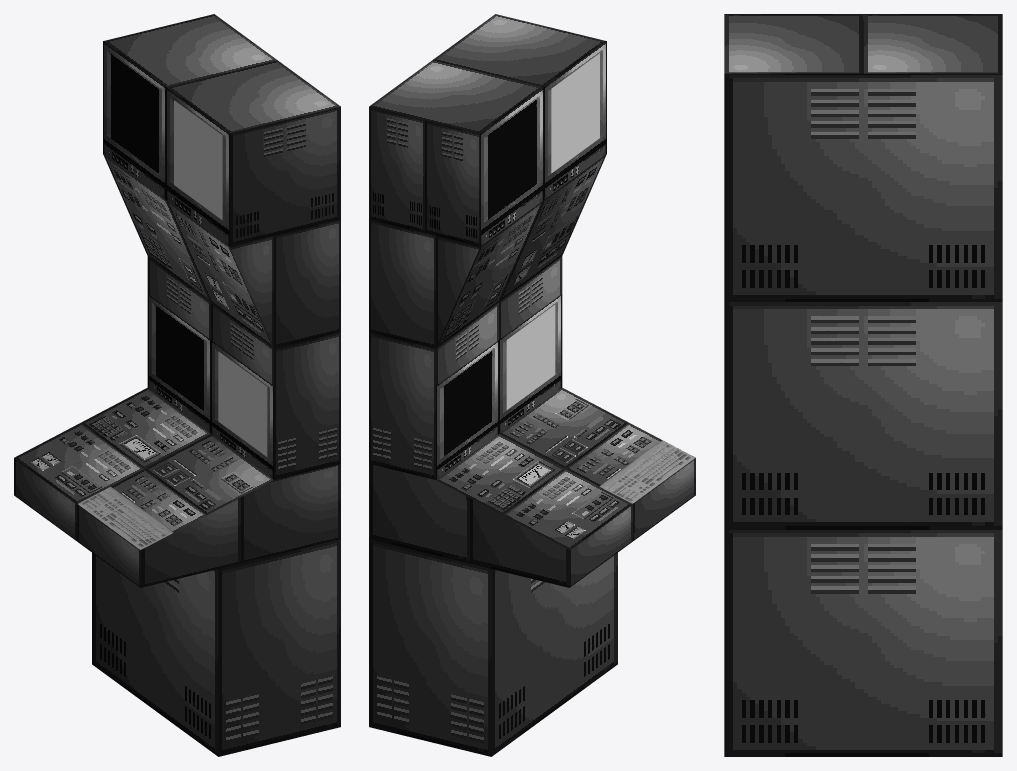
File: primary_121.glb
3 renders of one model, left to right at view 1: azimuth 30°, elevation 25°; view 2: azimuth 150°, elevation 25°; view 3: azimuth 270°, elevation 25°, orthographic. The views are drawn at different scales.
Visible parts, largest first — view 1: Object; view 2: Object; view 3: Object.
Boxes of the visible parts, x1,y1,x2,y2 form: Object: (14, 14, 340, 756); Object: (369, 14, 695, 756); Object: (724, 14, 1002, 756).
Bounding box in the file's own units: 1.03 × 3.05 × 1.13.
Materials: 25 (25 with a texture image).
